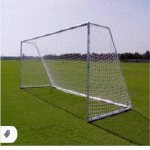goals: (16, 19, 135, 125)
